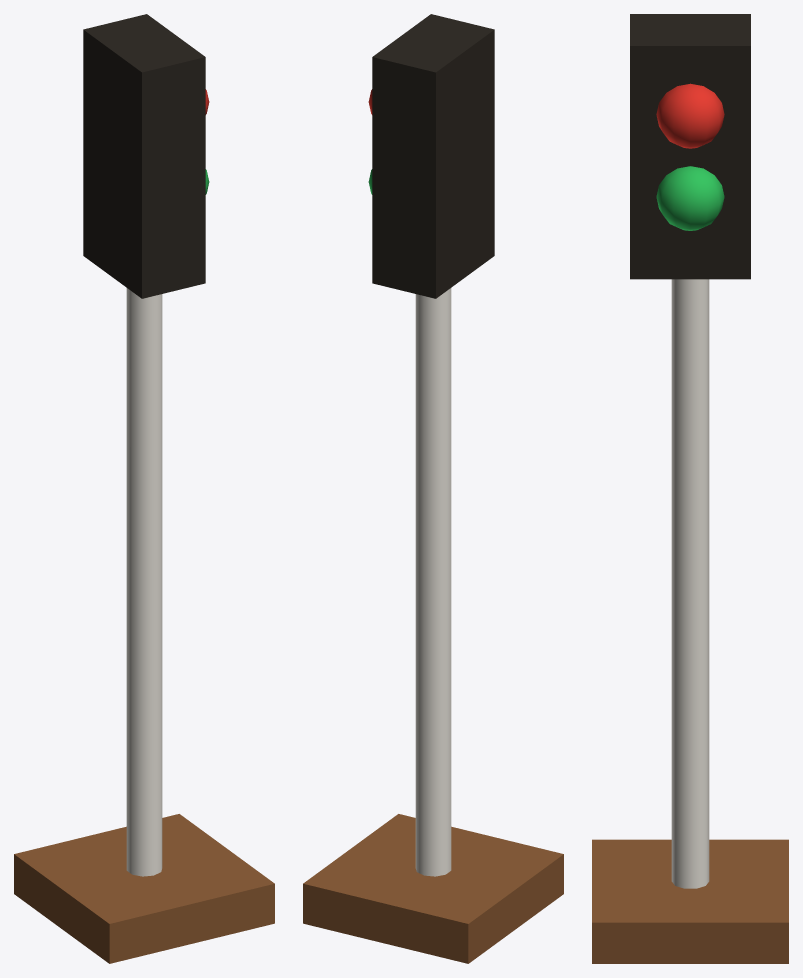
File: signal.glb
The picture shows the model from 3 angles, left to right: view 1: azimuth 30°, elevation 25°; view 2: azimuth 150°, elevation 25°; view 3: azimuth 270°, elevation 25°; orthographic projection. The views are drawn at different scales.
Visible parts, largest first — view 1: black, darkWood, white; view 2: black, darkWood, white; view 3: black, white, darkWood, signalRed, signalGreen.
Boxes of the visible parts, box(x1,y1,x2,y2) form: black: box(83, 14, 205, 298); darkWood: box(14, 814, 274, 963); white: box(126, 288, 162, 876); black: box(372, 14, 494, 298); darkWood: box(303, 814, 563, 963); white: box(415, 288, 451, 876); black: box(630, 14, 750, 279); white: box(671, 279, 709, 888); darkWood: box(592, 839, 788, 963); signalRed: box(656, 83, 724, 148); signalGreen: box(656, 166, 724, 230).
Size of the model in its own units: 26 by 130 by 26.
